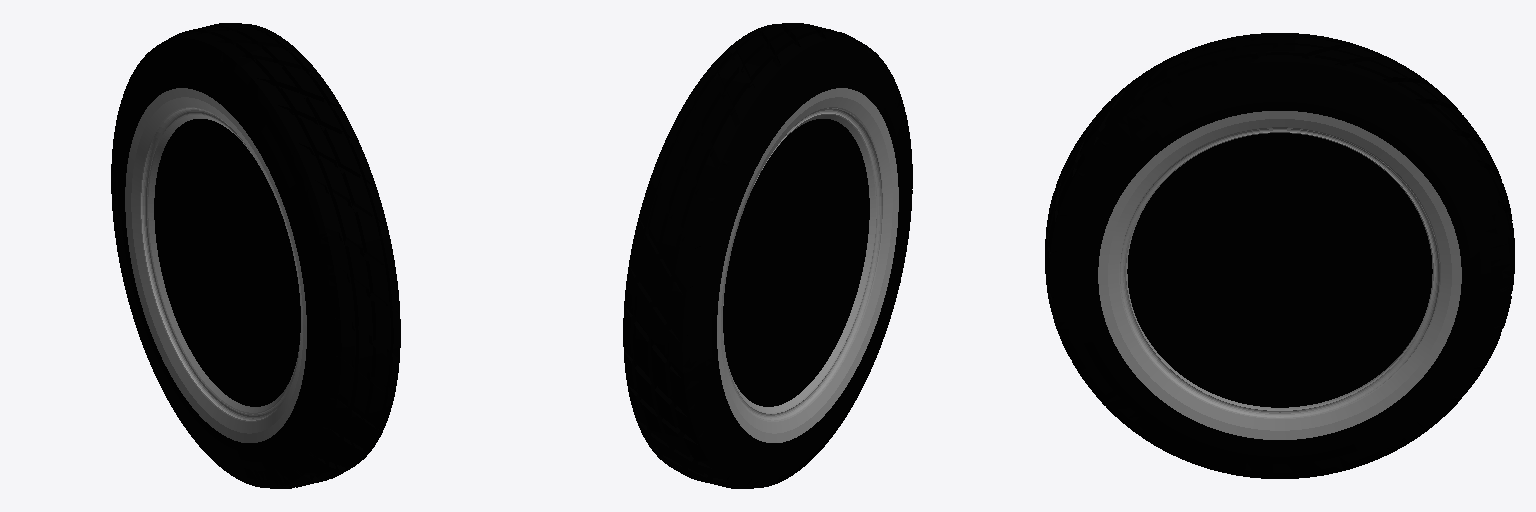
File: Neumatico.obj
3 renders of one model, left to right at view 1: azimuth 30°, elevation 25°; view 2: azimuth 150°, elevation 25°; view 3: azimuth 270°, elevation 25°, orthographic.
Parts seen in each view (by area): view 1: Tube001; view 2: Tube001; view 3: Tube001.
Part boxes in pixels (x1,y1,x2,y2): Tube001: (111, 23, 400, 488); Tube001: (623, 23, 912, 488); Tube001: (1045, 33, 1514, 478).
Bounding box in the file's own units: 15.99 × 81.55 × 81.55.